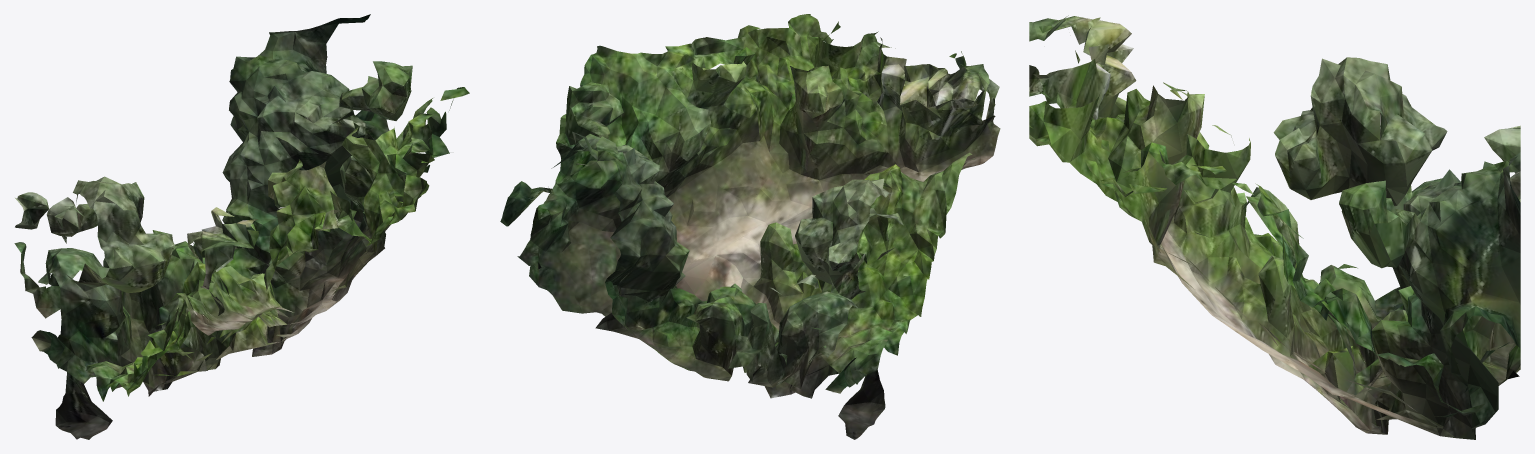
3 views of the same model, side by side, from view 1: azimuth 30°, elevation 25°; view 2: azimuth 150°, elevation 25°; view 3: azimuth 270°, elevation 25° (orthographic). The views are drawn at different scales.
Bounding box in the file's own units: 26.11 × 21.51 × 26.11.
Materials: 6 (6 with a texture image).
